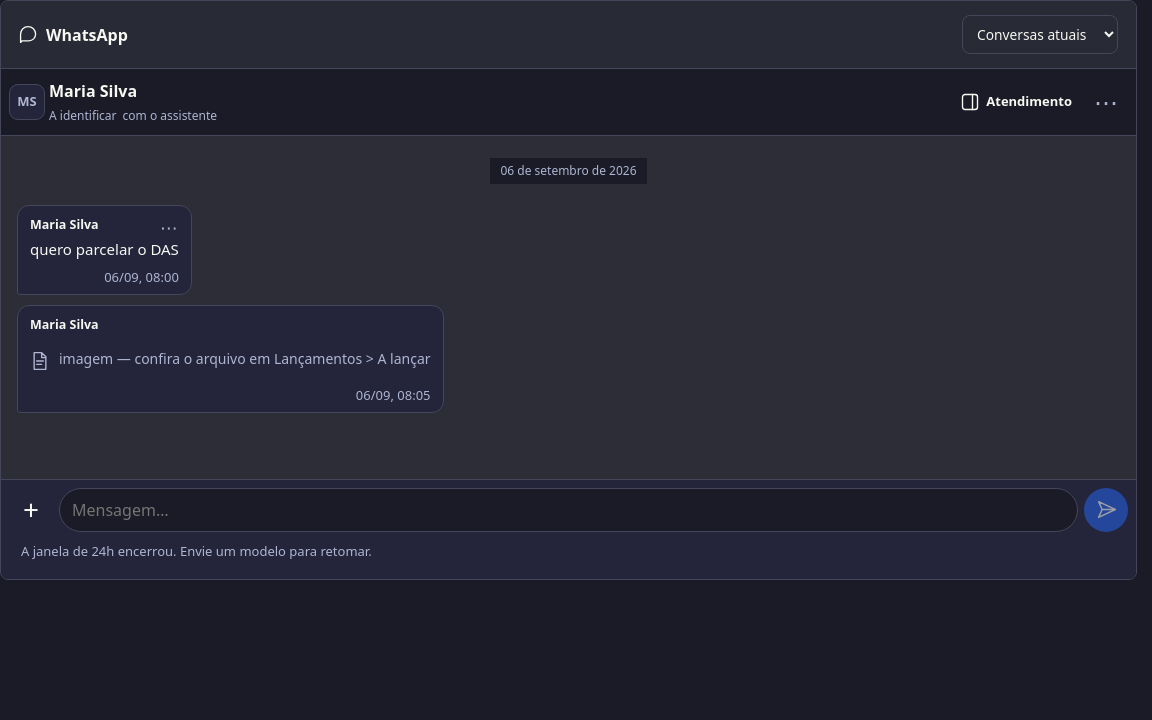
Test: ⚠⚠ fora da janela: guia SIM, documento NÃO — e o motivo é TEXTO › o documento fica desabilitado com a frase na tela, e a guia continua clicável
This screenshot has width=1152, height=720.
Click the button named "Ações da mensagem e arquivos" at (31, 510), box [9, 488, 53, 532]
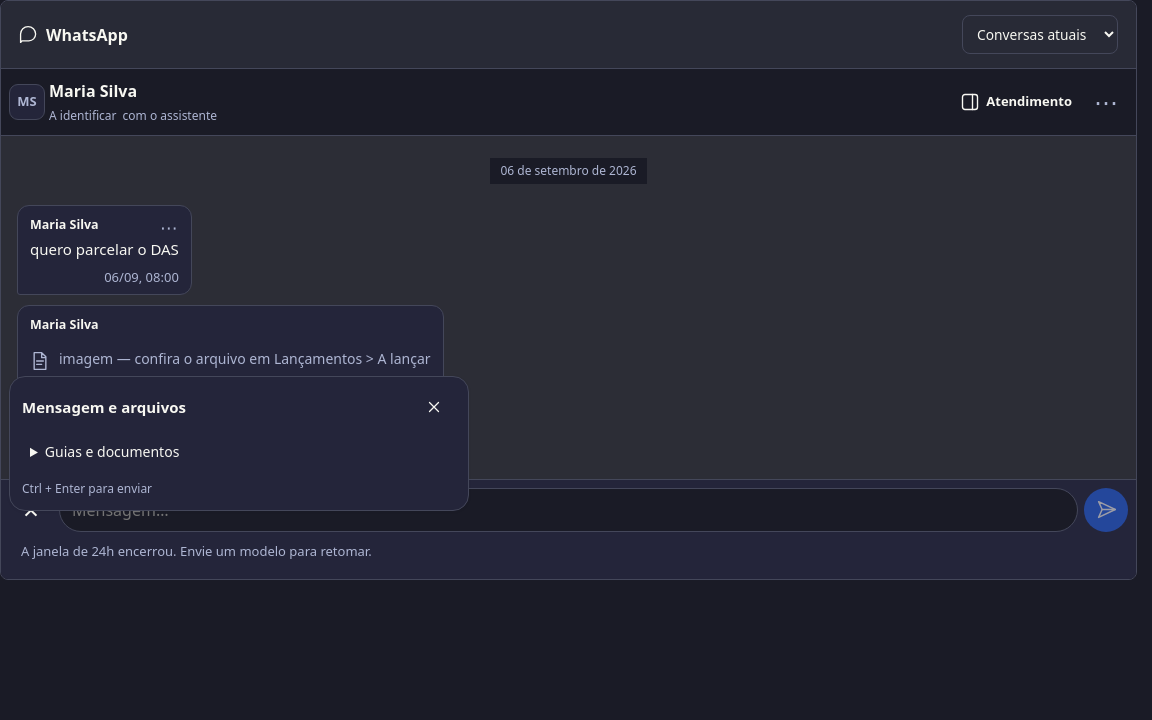
Click the heading "Guias e documentos" at (112, 452), box [45, 442, 179, 461]
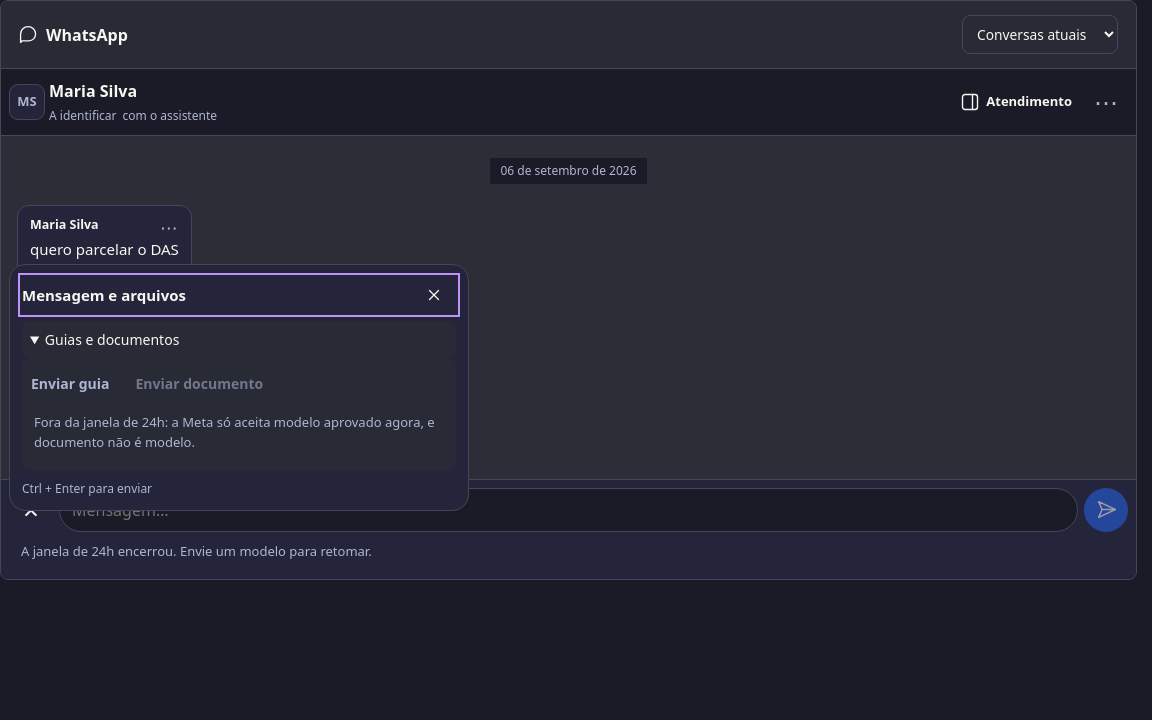
Result: the button with test id "acao-ENVIAR_DOCUMENTO" is disabled at [126, 366, 272, 403]
Result: the button with test id "acao-ENVIAR_GUIA" is enabled at [22, 366, 118, 403]
Result: the text with test id "motivo-ENVIAR_DOCUMENTO" shows "documento não é modelo" at [34, 413, 435, 450]
